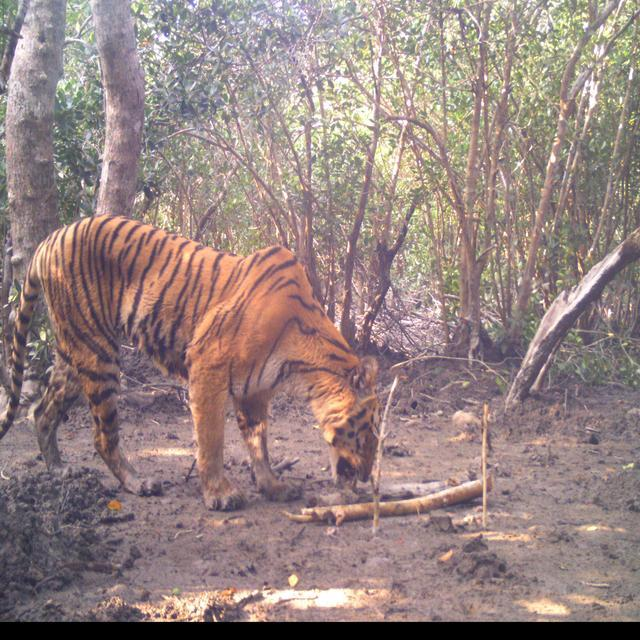tiger: (0, 211, 382, 511)
